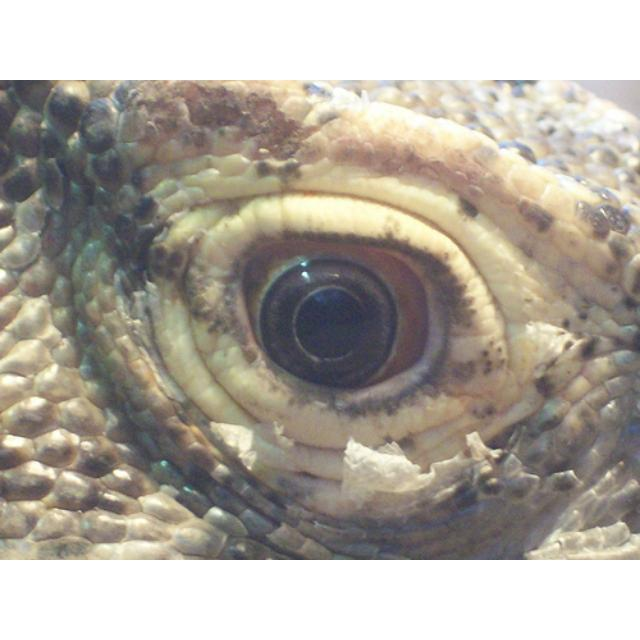KomodoDragon: (1, 80, 638, 556)
